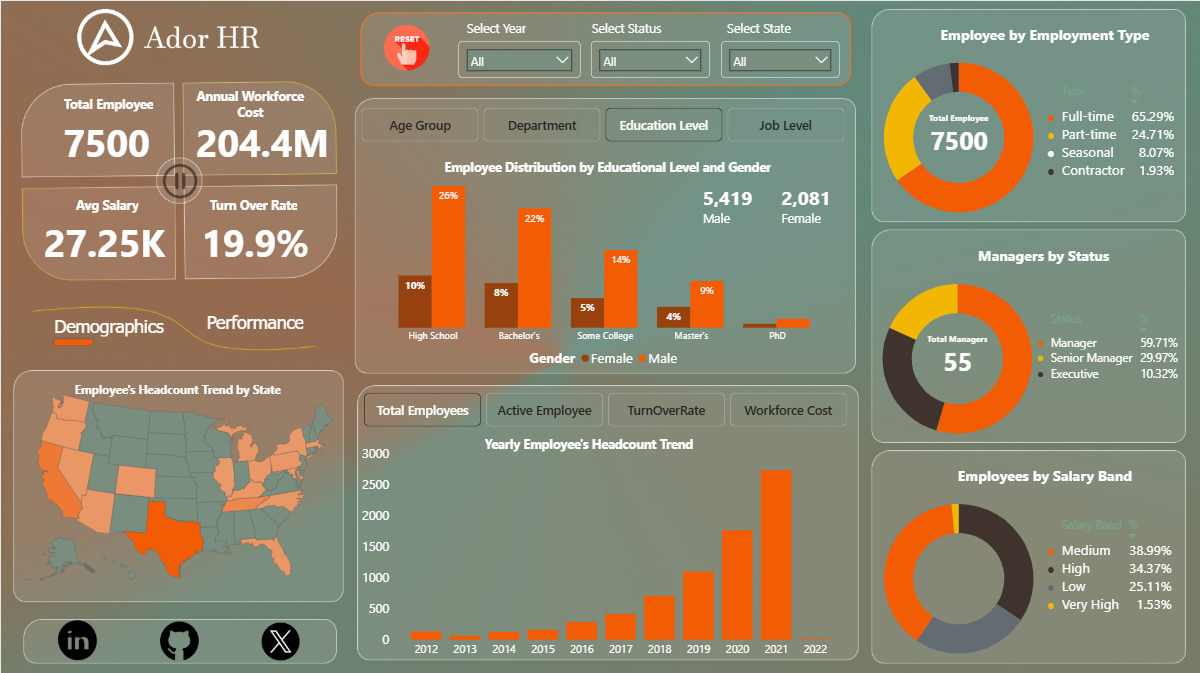

The page's visual inventory and layout, read from the dashboard file:
{"tool":"powerbi","page":{"name":"Demographics","canvas":[1920,1080],"ordinal":0},"visuals":[{"type":"shape","box":[74.1,487.7,197.6,63.8],"z":0},{"type":"shape","box":[308.7,481.6,197.6,63.8],"z":1000},{"type":"shape","box":[84.4,539.2,63.8,12.3],"z":2000},{"type":"card","fields":{"Values":["_Measures.Total Employees"]},"box":[70,177,197.6,92.6],"z":3000},{"type":"shape","box":[61.7,131.7,220.2,63.8],"z":4000},{"type":"card","fields":{"Values":["_Measures.Avg Salary"]},"box":[49.4,337.6,230.5,92.6],"z":5000},{"type":"card","fields":{"Values":["_Measures.TurnOverRate"]},"box":[286.1,337.6,240.8,92.6],"z":6000},{"type":"card","fields":{"Values":["_Measures.Annual Workforse Cost"]},"box":[286.1,177,263.5,92.6],"z":7000},{"type":"shape","box":[306.7,131.7,185.2,63.8],"z":8000},{"type":"shape","box":[60.2,293.2,220.2,63.8],"z":9000},{"type":"shape","box":[294.9,293.2,220.2,63.8],"z":10000},{"type":"donutChart","fields":{"Y":["_Measures.Total Employees"],"Category":["employees.Employment_Type"]},"box":[1284.7,64.4,496.9,309.2],"z":11000},{"type":"tableEx","fields":{"Values":["_Measures.Icon","employees.Employment_Type","Divide(_Measures.Total Employees, ScopedEval(_Measures.Total Employees, []))"]},"box":[1662,127,257.7,213.5],"z":12000},{"type":"shape","box":[1487.1,20.2,364.4,64.4],"z":13000},{"type":"card","fields":{"Values":["_Measures.Total Employees"]},"box":[1433.7,176.7,198.8,92],"z":14000},{"type":"shape","box":[1422.7,154.6,220.9,64.4],"z":15000},{"type":"donutChart","fields":{"Y":["_Measures.Managers"],"Category":["employees.Manager_Status"]},"box":[1282.8,417.8,496.9,309.2],"z":16000},{"type":"tableEx","fields":{"Values":["_Measures.Icon","employees.Manager_Status","Divide(_Measures.Total Employees, ScopedEval(_Measures.Total Employees, []))"]},"box":[1645.4,489.6,250.3,213.5],"z":17000},{"type":"shape","box":[1486.8,373.3,364.4,64.4],"z":18000},{"type":"card","fields":{"Values":["_Measures.Managers"]},"box":[1431.9,530.1,198.8,92],"z":19000},{"type":"shape","box":[1420.9,508,220.9,64.4],"z":20000},{"type":"donutChart","fields":{"Y":["_Measures.Total Employees"],"Series":["employees.Salary Band"]},"box":[1284,770.9,496.9,309.2],"z":21000},{"type":"shape","box":[1488,726.4,364.4,64.4],"z":22000},{"type":"tableEx","fields":{"Values":["_Measures.Icon","employees.Salary Band","Divide(_Measures.Total Employees, ScopedEval(_Measures.Total Employees, []))"]},"box":[1662,819,257.7,213.5],"z":23000},{"type":"advancedSlicerVisual","fields":{"Values":["Demographics.Demographics"]},"box":[572.4,165.6,785.9,64.4],"z":24000},{"type":"clusteredColumnChart","fields":{"Category":["employees.Education_Level"],"Y":["_Measures.Total Employees"],"Series":["employees.Gender"]},"box":[576.1,252.1,782.2,342.3],"z":25000},{"type":"shape","box":[701.2,237.4,537.4,55.2],"z":26000},{"type":"multiRowCard","fields":{"Values":["_Measures.Male","_Measures.Female"]},"box":[1117.2,289,261.4,84.7],"z":27000},{"type":"advancedSlicerVisual","fields":{"Values":["KPI.KPI"]},"box":[576.1,622.1,785.9,64.4],"z":28000},{"type":"clusteredColumnChart","fields":{"Y":["_Measures.Total Employees"],"Category":["Dates.Year"]},"box":[572.4,703.1,785.9,355.2],"z":29000},{"type":"shape","box":[671.8,679.1,537.4,55.2],"z":30000},{"type":"shapeMap","fields":{"Value":["_Measures.Total Employees"],"Category":["employees.State"]},"box":[27.6,596.3,520.9,362.6],"z":31000},{"type":"shape","box":[14.7,594.5,537.4,55.2],"z":32000},{"type":"slicer","fields":{"Values":["Dates.Year"]},"box":[732.5,64.4,195,58.9],"z":33000},{"type":"image","box":[607.4,16.6,82.8,117.8],"z":34000},{"type":"shape","box":[732.5,20.2,121.5,44.2],"z":35000},{"type":"slicer","fields":{"Values":["employees.Status"]},"box":[944.8,64.4,190,58.9],"z":36000},{"type":"slicer","fields":{"Values":["employees.State"]},"box":[1152.2,64.4,189.6,58.9],"z":37000},{"type":"shape","box":[940.5,20.2,121.5,44.2],"z":38000},{"type":"shape","box":[1152.2,20.2,121.5,44.2],"z":39000},{"type":"image","box":[241.1,988.3,86.5,71.8],"z":39001},{"type":"image","box":[80,990,86,72],"z":39002},{"type":"image","box":[403.1,990.2,86.5,69.9],"z":39003}]}

Visuals, with their boxes in screenshot pixels (x1, y1, x2, y2), scaled from the page's 1920x1080 canvas onto the 1200x673 screenshot:
shape: <box>46,304,170,344</box>
shape: <box>193,300,316,340</box>
shape: <box>53,336,93,344</box>
card - _Measures.Total Employees: <box>44,110,167,168</box>
shape: <box>39,82,176,122</box>
card - _Measures.Avg Salary: <box>31,210,175,268</box>
card - _Measures.TurnOverRate: <box>179,210,329,268</box>
card - _Measures.Annual Workforse Cost: <box>179,110,344,168</box>
shape: <box>192,82,307,122</box>
shape: <box>38,183,175,222</box>
shape: <box>184,183,322,222</box>
donutChart - _Measures.Total Employees x employees.Employment_Type: <box>803,40,1114,233</box>
tableEx - _Measures.Icon x employees.Employment_Type: <box>1039,79,1199,212</box>
shape: <box>929,13,1157,53</box>
card - _Measures.Total Employees: <box>896,110,1020,167</box>
shape: <box>889,96,1027,136</box>
donutChart - _Measures.Managers x employees.Manager_Status: <box>802,260,1112,453</box>
tableEx - _Measures.Icon x employees.Manager_Status: <box>1028,305,1185,438</box>
shape: <box>929,233,1157,273</box>
card - _Measures.Managers: <box>895,330,1019,388</box>
shape: <box>888,317,1026,357</box>
donutChart - _Measures.Total Employees x employees.Salary Band: <box>802,480,1113,672</box>
shape: <box>930,453,1158,493</box>
tableEx - _Measures.Icon x employees.Salary Band: <box>1039,510,1199,643</box>
advancedSlicerVisual - Demographics.Demographics: <box>358,103,849,143</box>
clusteredColumnChart - employees.Education_Level x _Measures.Total Employees: <box>360,157,849,370</box>
shape: <box>438,148,774,182</box>
multiRowCard - _Measures.Male x _Measures.Female: <box>698,180,862,233</box>
advancedSlicerVisual - KPI.KPI: <box>360,388,851,428</box>
clusteredColumnChart - _Measures.Total Employees x Dates.Year: <box>358,438,849,659</box>
shape: <box>420,423,756,458</box>
shapeMap - _Measures.Total Employees x employees.State: <box>17,372,343,598</box>
shape: <box>9,370,345,405</box>
slicer - Dates.Year: <box>458,40,580,77</box>
image: <box>380,10,431,84</box>
shape: <box>458,13,534,40</box>
slicer - employees.Status: <box>590,40,709,77</box>
slicer - employees.State: <box>720,40,839,77</box>
shape: <box>588,13,664,40</box>
shape: <box>720,13,796,40</box>
image: <box>151,616,205,661</box>
image: <box>50,617,104,662</box>
image: <box>252,617,306,661</box>
